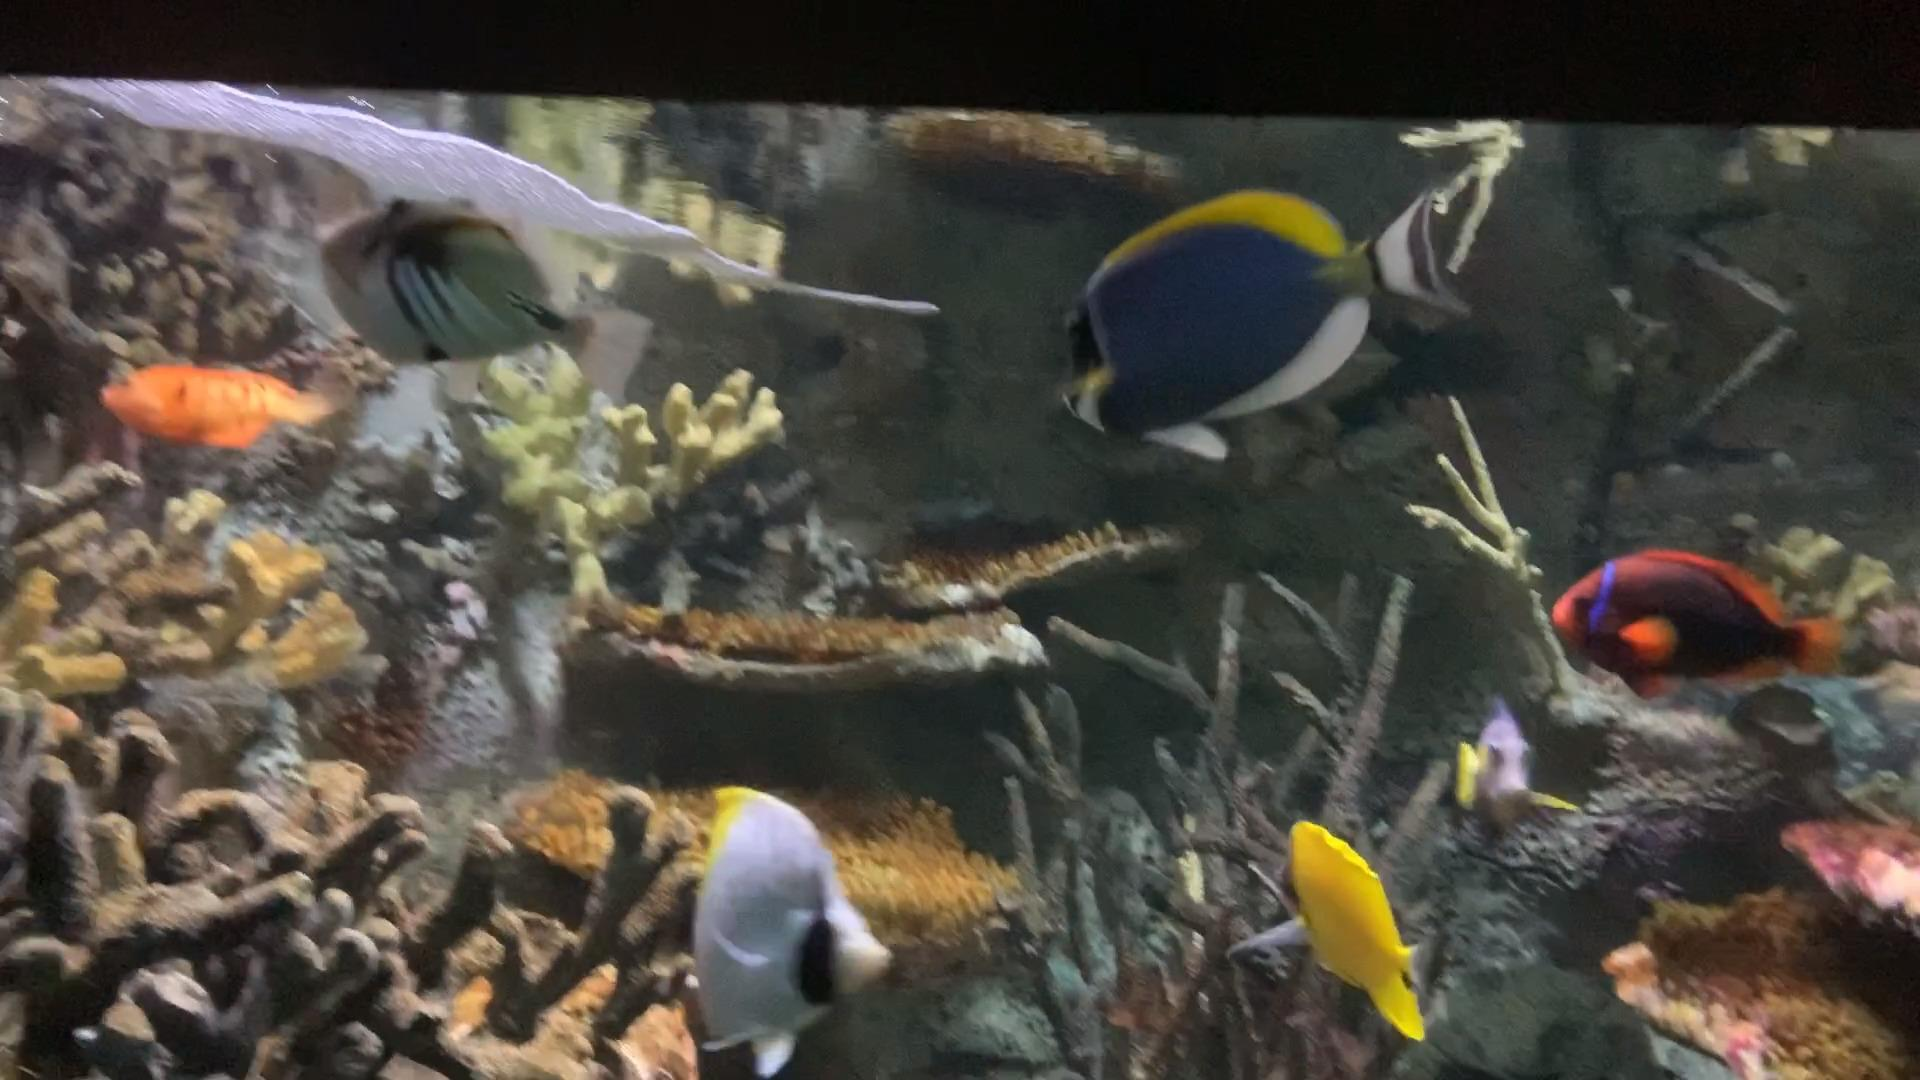fish: (1058, 165, 1491, 464), (694, 767, 901, 1079), (318, 191, 599, 375), (1549, 542, 1849, 708), (1250, 815, 1447, 1051), (102, 363, 339, 456), (1452, 698, 1584, 844)
